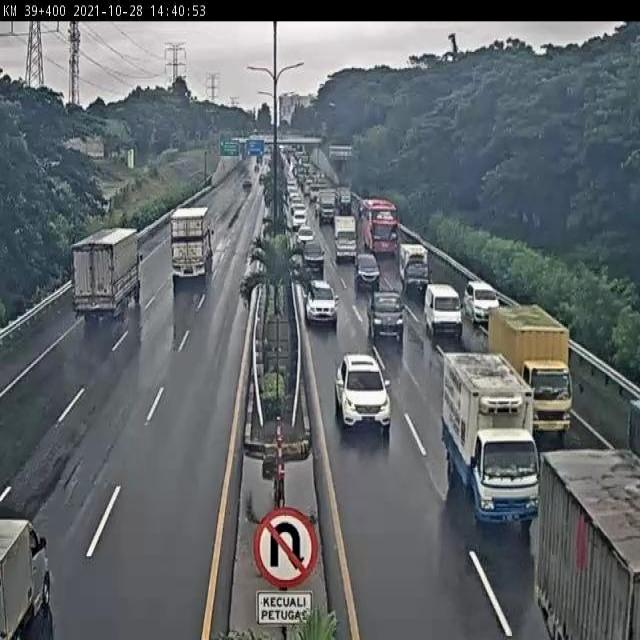Bus: (360, 198, 400, 256)
Car: (334, 352, 395, 441), (466, 281, 502, 331), (302, 279, 339, 326), (368, 294, 406, 336), (353, 250, 381, 290), (300, 240, 326, 274), (295, 226, 316, 247), (292, 209, 310, 229)
Truck: (533, 446, 640, 640), (442, 349, 539, 536), (486, 301, 574, 440), (70, 227, 144, 323), (168, 205, 216, 286), (398, 244, 434, 294), (333, 213, 358, 260), (318, 190, 337, 226)
Van: (423, 284, 464, 338)
